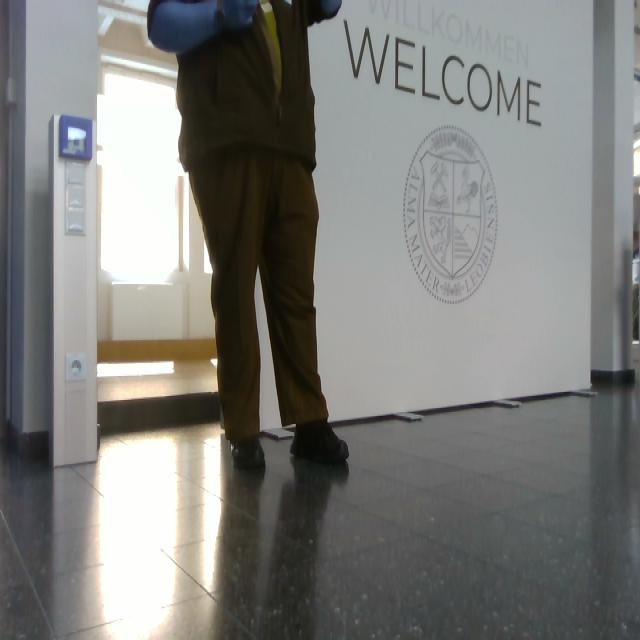door: (50, 113, 99, 468)
light bulb: (147, 1, 259, 56), (59, 116, 94, 161), (66, 125, 88, 153), (210, 358, 218, 368)
person: (147, 1, 351, 472)
tiled floor: (2, 379, 639, 639)
